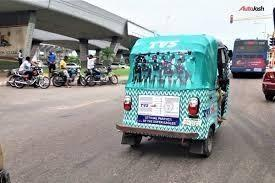keke: (116, 28, 233, 165)
